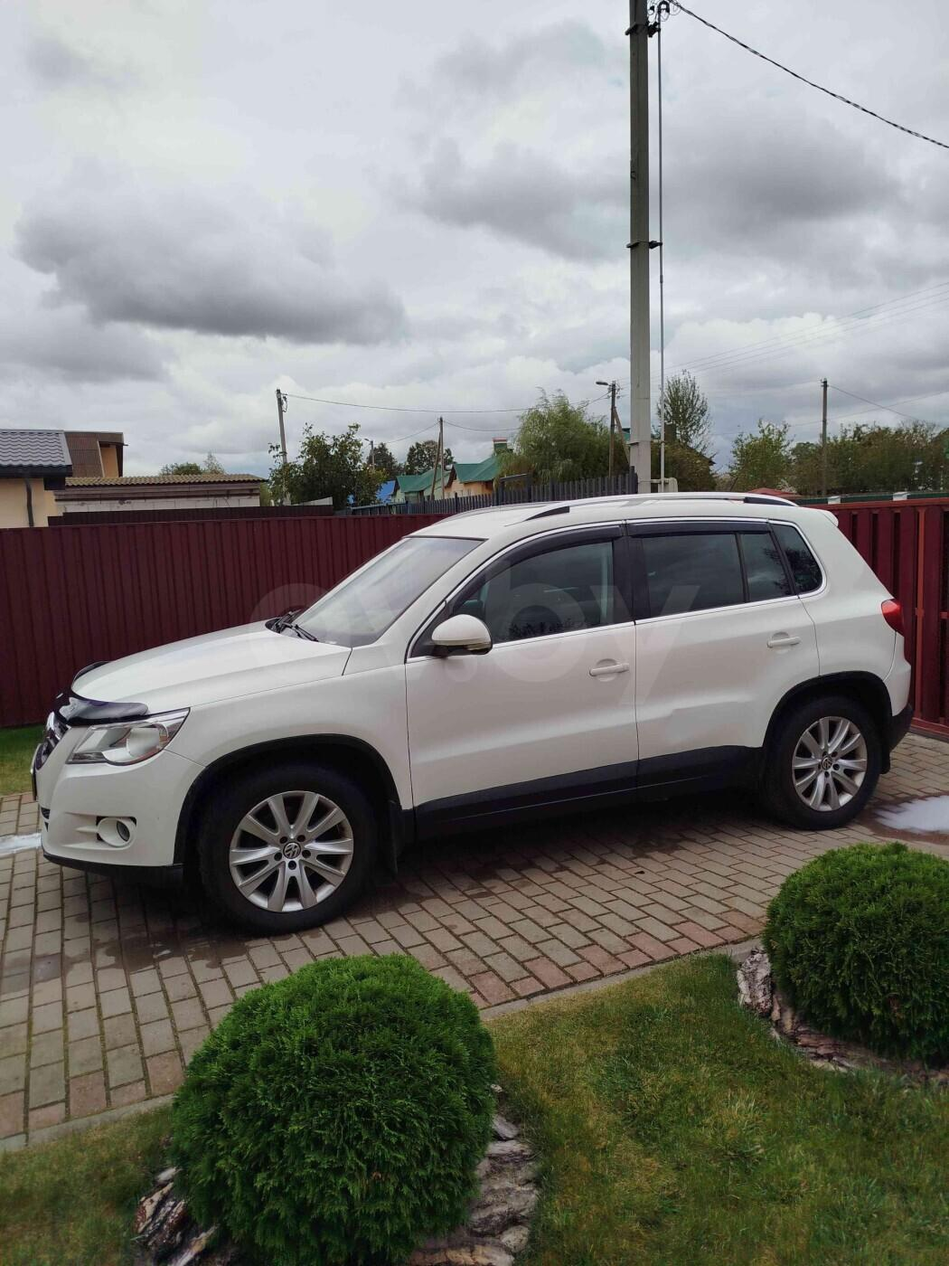Tiguan_2007-2011: (29, 488, 913, 930)
